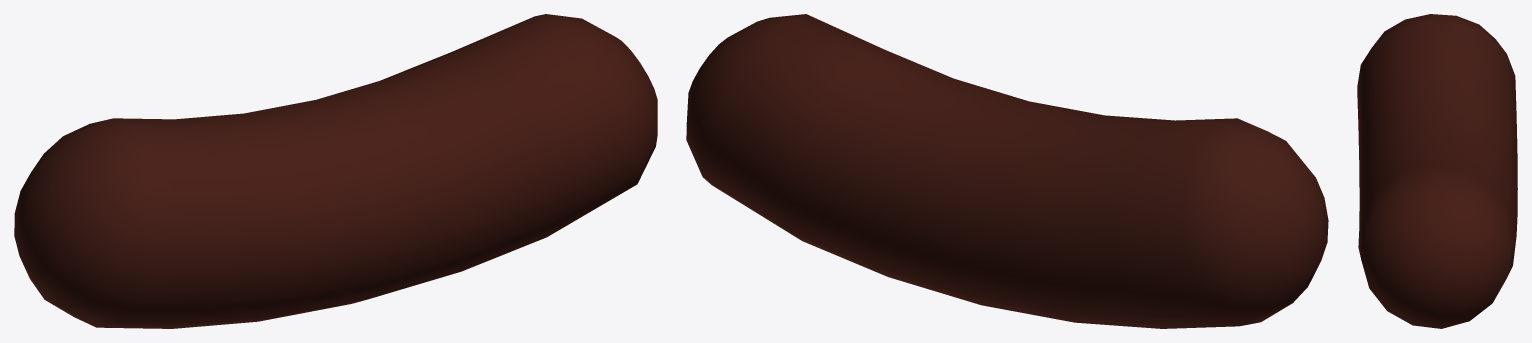
The model's file is Burn_Hotdog.fbx.
The picture shows the model from 3 angles, left to right: view 1: azimuth 30°, elevation 25°; view 2: azimuth 150°, elevation 25°; view 3: azimuth 270°, elevation 25°; orthographic projection. The views are drawn at different scales.
Parts seen in each view (by area): view 1: hotdog; view 2: hotdog; view 3: hotdog.
Boxes of the visible parts, x1,y1,x2,y2 form: hotdog: (14, 14, 657, 328); hotdog: (686, 14, 1328, 328); hotdog: (1357, 14, 1517, 328).
Size of the model in its own units: 0.3374 by 0.116 by 0.1007.
